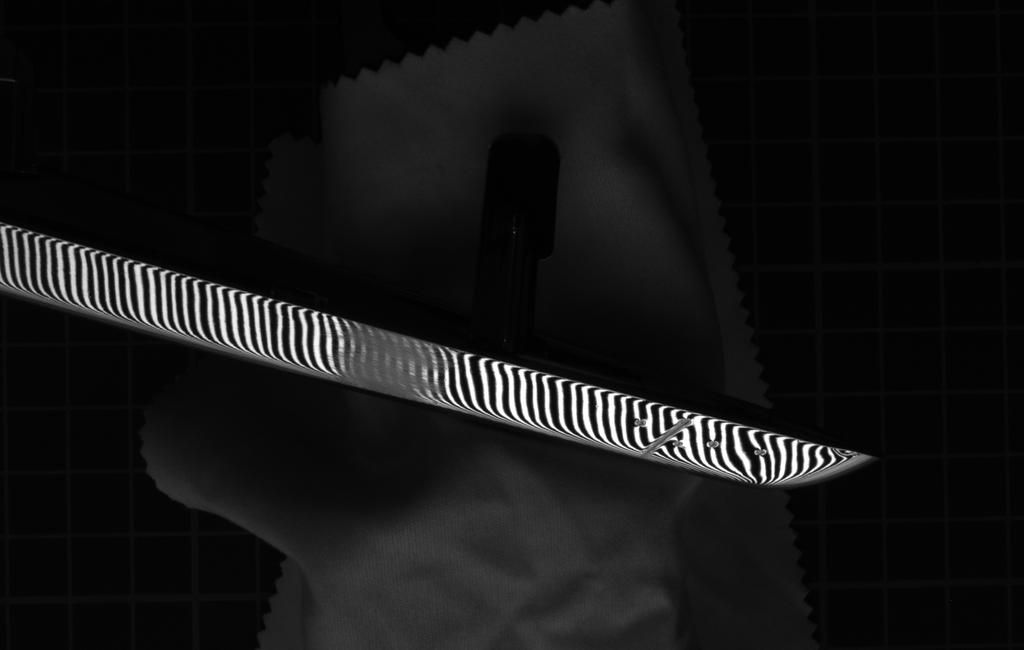Pierced: (752, 444, 771, 461), (705, 435, 723, 452), (629, 415, 648, 430), (668, 437, 684, 453)
Pitting: (336, 315, 454, 405)
Scratch: (640, 417, 697, 457)
